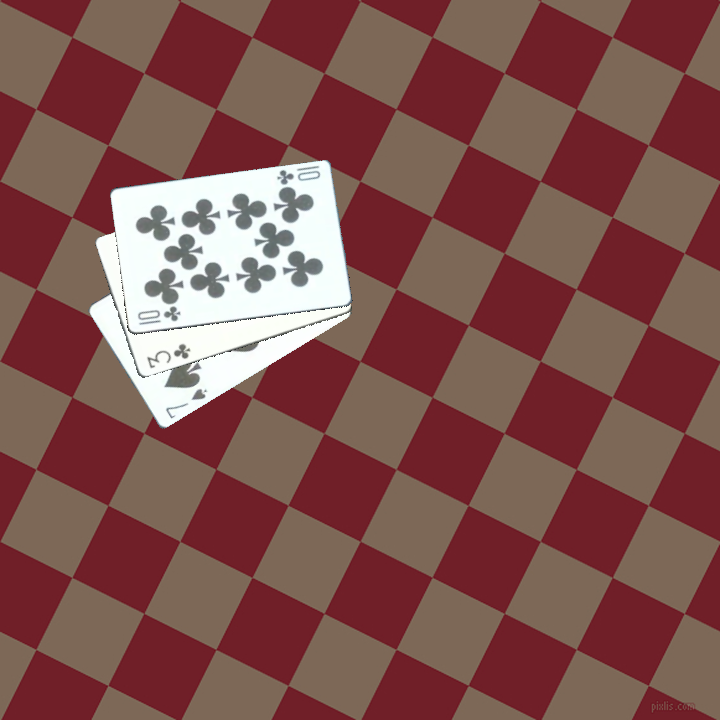10c: (133, 302, 183, 327), (273, 166, 323, 187)
3c: (142, 339, 193, 371)
7s: (161, 384, 208, 421)
